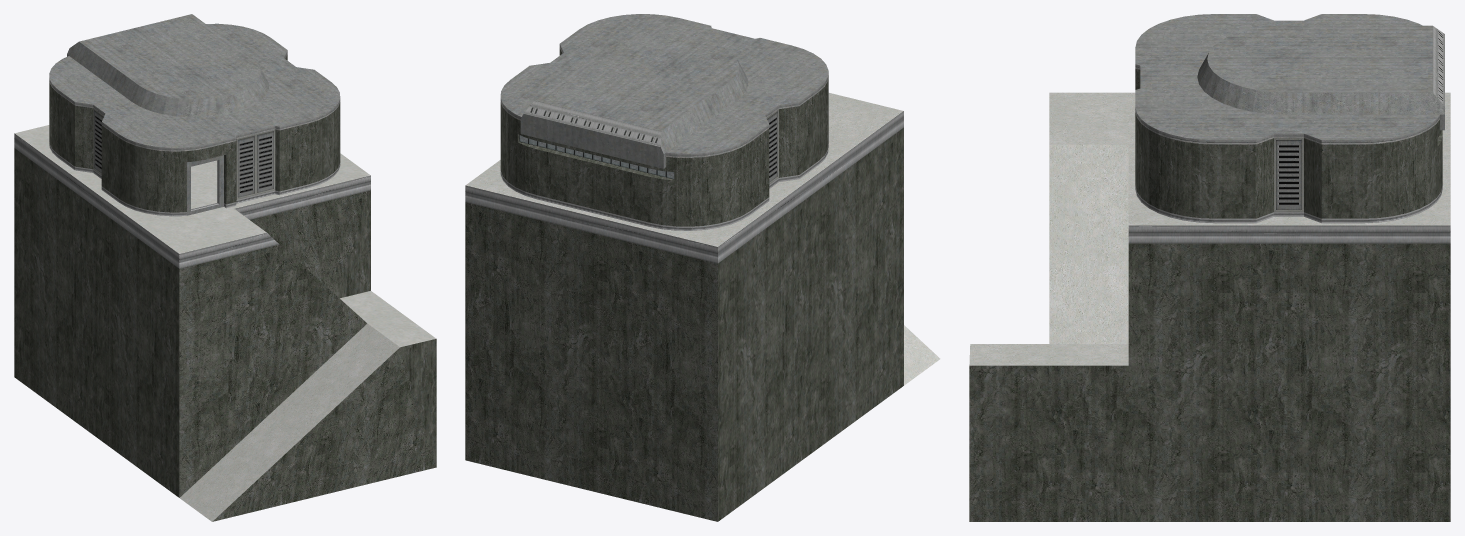
Rendered from ply_corl_house_sm_s02_fp2_r0_mesh_l0.fbx.
3 renders of one model, left to right at view 1: azimuth 30°, elevation 25°; view 2: azimuth 150°, elevation 25°; view 3: azimuth 270°, elevation 25°, orthographic. The views are drawn at different scales.
Parts seen in each view (by area): view 1: mesh_node; view 2: mesh_node; view 3: mesh_node.
Boxes of the visible parts, x1,y1,x2,y2 form: mesh_node: (14, 14, 436, 521); mesh_node: (465, 14, 940, 521); mesh_node: (969, 14, 1450, 521).
Size of the model in its own units: 15.87 by 22.12 by 24.27.
